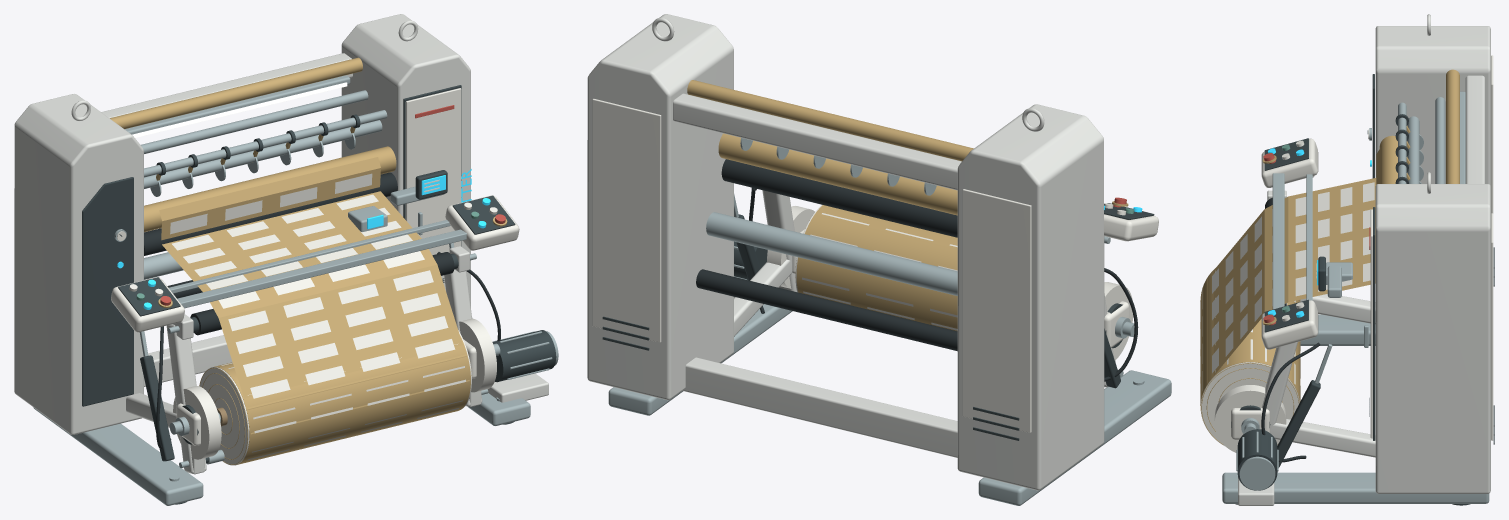
The model's file is slitter-rewinder-clay.glb.
The picture shows the model from 3 angles, left to right: view 1: azimuth 30°, elevation 25°; view 2: azimuth 150°, elevation 25°; view 3: azimuth 270°, elevation 25°; orthographic projection. The views are drawn at different scales.
Visible parts, largest first — view 1: Slitter clay | ivory, Slitter clay | gold film, Slitter clay | chalk, Slitter clay | steel, Slitter clay | graphite, slitter_loaded_reel, Slitter clay | rubber, Slitter clay | lamp, Slitter clay | cyan; view 2: Slitter clay | ivory, Slitter clay | chalk, Slitter clay | steel, Slitter clay | rubber, slitter_loaded_reel, Slitter clay | gold film, Slitter clay | graphite; view 3: Slitter clay | ivory, Slitter clay | steel, Slitter clay | gold film, Slitter clay | chalk, Slitter clay | graphite, slitter_loaded_reel, Slitter clay | rubber.
Part boxes in pixels (x1=…): Slitter clay | ivory: x1=14, y1=14, x2=548, y2=474; Slitter clay | gold film: x1=110, y1=57, x2=507, y2=434; Slitter clay | chalk: x1=111, y1=88, x2=519, y2=459; Slitter clay | steel: x1=33, y1=75, x2=558, y2=505; Slitter clay | graphite: x1=82, y1=85, x2=556, y2=504; slitter_loaded_reel: x1=199, y1=330, x2=471, y2=465; Slitter clay | rubber: x1=144, y1=172, x2=500, y2=448; Slitter clay | lamp: x1=132, y1=82, x2=347, y2=137; Slitter clay | cyan: x1=117, y1=169, x2=490, y2=309; Slitter clay | ivory: x1=587, y1=14, x2=1115, y2=490; Slitter clay | chalk: x1=592, y1=98, x2=1158, y2=432; Slitter clay | steel: x1=608, y1=138, x2=1171, y2=505; Slitter clay | rubber: x1=696, y1=159, x2=1138, y2=381; slitter_loaded_reel: x1=795, y1=205, x2=957, y2=331; Slitter clay | gold film: x1=687, y1=80, x2=1128, y2=215; Slitter clay | graphite: x1=602, y1=203, x2=1154, y2=440; Slitter clay | ivory: x1=1238, y1=14, x2=1490, y2=505; Slitter clay | steel: x1=1222, y1=91, x2=1489, y2=503; Slitter clay | gold film: x1=1200, y1=69, x2=1459, y2=405; Slitter clay | chalk: x1=1212, y1=55, x2=1493, y2=452; Slitter clay | graphite: x1=1231, y1=74, x2=1494, y2=505; slitter_loaded_reel: x1=1200, y1=268, x2=1300, y2=445; Slitter clay | rubber: x1=1261, y1=198, x2=1320, y2=462.
Size of the model in its own units: 3.4 by 2.56 by 2.09.
